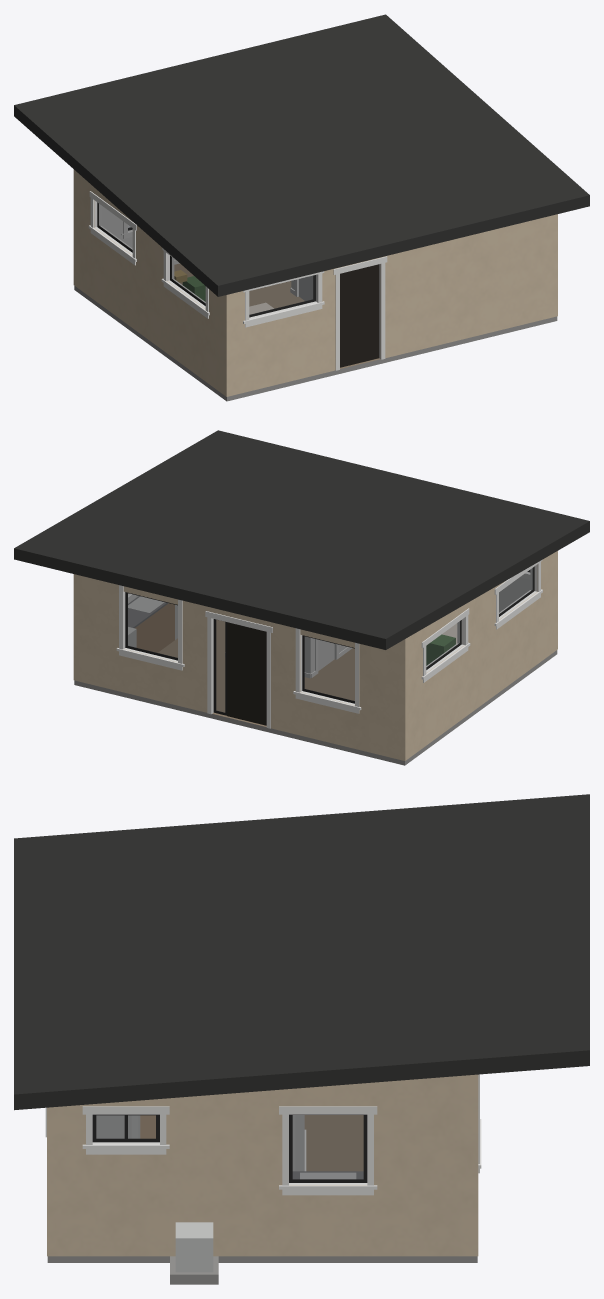
Rendered from laurel_a1_460.glb.
3 views of the same model, one above another, from view 1: azimuth 30°, elevation 25°; view 2: azimuth 150°, elevation 25°; view 3: azimuth 270°, elevation 25° (orthographic). The views are drawn at different scales.
Parts seen in each view (by area): view 1: Roof_shed, Sheathing_rear, Sheathing_x0, Leaf_D-6, Slab, Trim_ext_siding_rear, Trim_ext_siding_x0, Glazing_W-C3, Glazing_W-C1, Glazing_W-C2, Wall_x0, Wall_front; view 2: Roof_shed, Sheathing_front, Sheathing_x0, Slab, Leaf_D-1, Trim_ext_siding_front, Glazing_W-A1, Glazing_W-A2, Trim_ext_siding_x0, Fix_counter, Glazing_D-1_sidelite, Wall_front (+6 smaller); view 3: Roof_shed, Sheathing_x24, Slab, Trim_ext_siding_x24, Glazing_W-D1, Equip_condenser, Glazing_W-E1, Sash_W-D1, Equip_pad, Leaf_D-5, Sash_W-E1.
Boxes of the visible parts, x1,y1,x2,y2 form: Roof_shed: [14, 14, 589, 296]; Sheathing_rear: [226, 214, 557, 396]; Sheathing_x0: [74, 170, 226, 396]; Leaf_D-6: [340, 264, 379, 367]; Slab: [74, 263, 557, 401]; Trim_ext_siding_rear: [243, 256, 387, 370]; Trim_ext_siding_x0: [88, 191, 209, 318]; Glazing_W-C3: [249, 276, 312, 314]; Glazing_W-C1: [99, 204, 132, 249]; Glazing_W-C2: [172, 257, 205, 302]; Wall_x0: [94, 200, 205, 308]; Wall_front: [101, 205, 175, 259]; Roof_shed: [14, 430, 589, 649]; Sheathing_front: [73, 574, 405, 760]; Sheathing_x0: [405, 551, 557, 760]; Slab: [74, 620, 557, 765]; Leaf_D-1: [227, 622, 266, 725]; Trim_ext_siding_front: [116, 585, 361, 728]; Glazing_W-A1: [128, 593, 177, 657]; Glazing_W-A2: [305, 636, 354, 700]; Trim_ext_siding_x0: [421, 560, 542, 682]; Fix_counter: [135, 603, 174, 652]; Glazing_D-1_sidelite: [216, 620, 224, 712]; Wall_front: [123, 591, 354, 713]; Roof_shed: [14, 794, 589, 1110]; Sheathing_x24: [47, 1074, 477, 1256]; Slab: [47, 1115, 477, 1262]; Trim_ext_siding_x24: [82, 1106, 377, 1195]; Glazing_W-D1: [293, 1115, 363, 1178]; Equip_condenser: [175, 1222, 213, 1272]; Glazing_W-E1: [96, 1115, 155, 1138]; Sash_W-D1: [289, 1114, 367, 1182]; Equip_pad: [170, 1256, 218, 1284]; Leaf_D-5: [96, 1115, 131, 1138]; Sash_W-E1: [92, 1114, 159, 1142].
Bounding box in the file's own units: 8.37 × 3.45 × 7.82.
21 materials, 2 textured.
